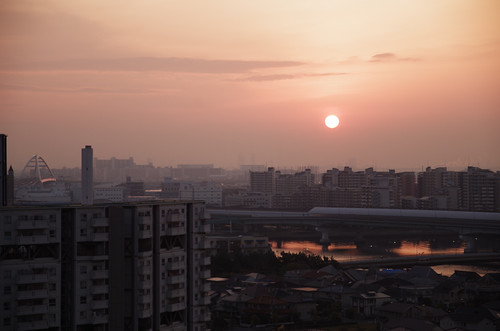building: (1, 202, 214, 331), (447, 163, 500, 209), (367, 168, 398, 206), (389, 170, 415, 210), (424, 167, 450, 207), (246, 167, 283, 195), (279, 168, 316, 196), (328, 166, 365, 194)
sky: (1, 1, 489, 162)
sun: (317, 112, 342, 129)
